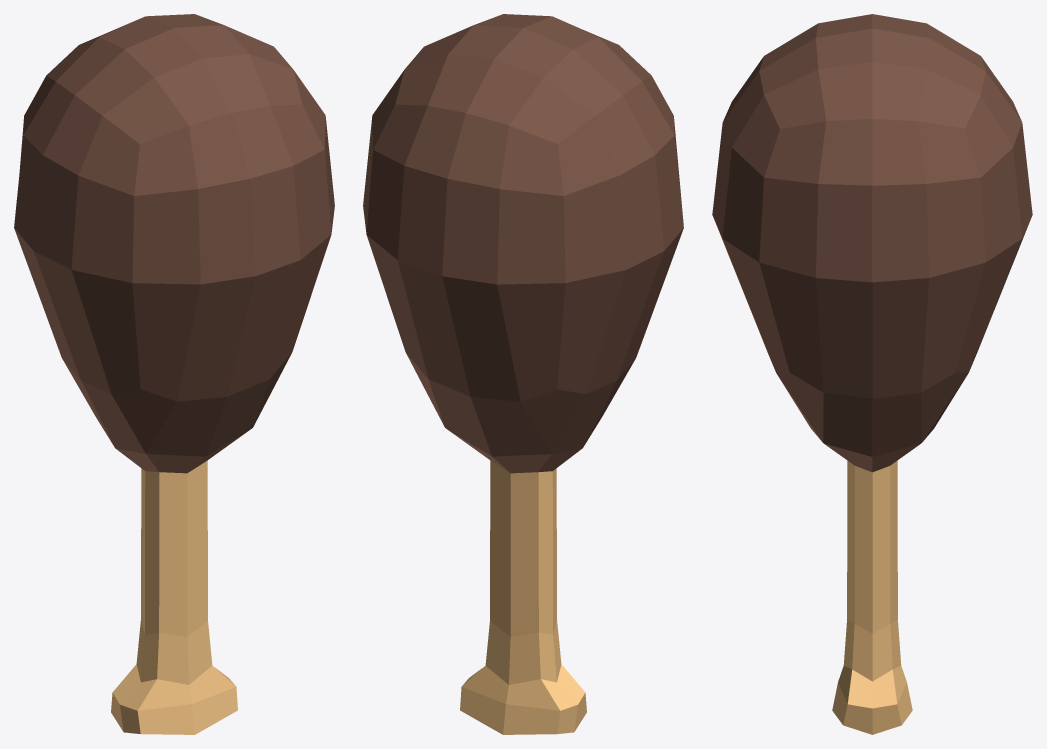
The model's file is Chicken.glb.
3 renders of one model, left to right at view 1: azimuth 30°, elevation 25°; view 2: azimuth 150°, elevation 25°; view 3: azimuth 270°, elevation 25°, orthographic.
Visible parts, largest first — view 1: Chicken_Roundcube.001; view 2: Chicken_Roundcube.001; view 3: Chicken_Roundcube.001.
Part boxes in pixels (x1,y1,x2,y2): Chicken_Roundcube.001: (14, 14, 334, 734); Chicken_Roundcube.001: (363, 14, 683, 734); Chicken_Roundcube.001: (712, 14, 1032, 734).
Bounding box in the file's own units: 4.5 × 10.72 × 4.5.
